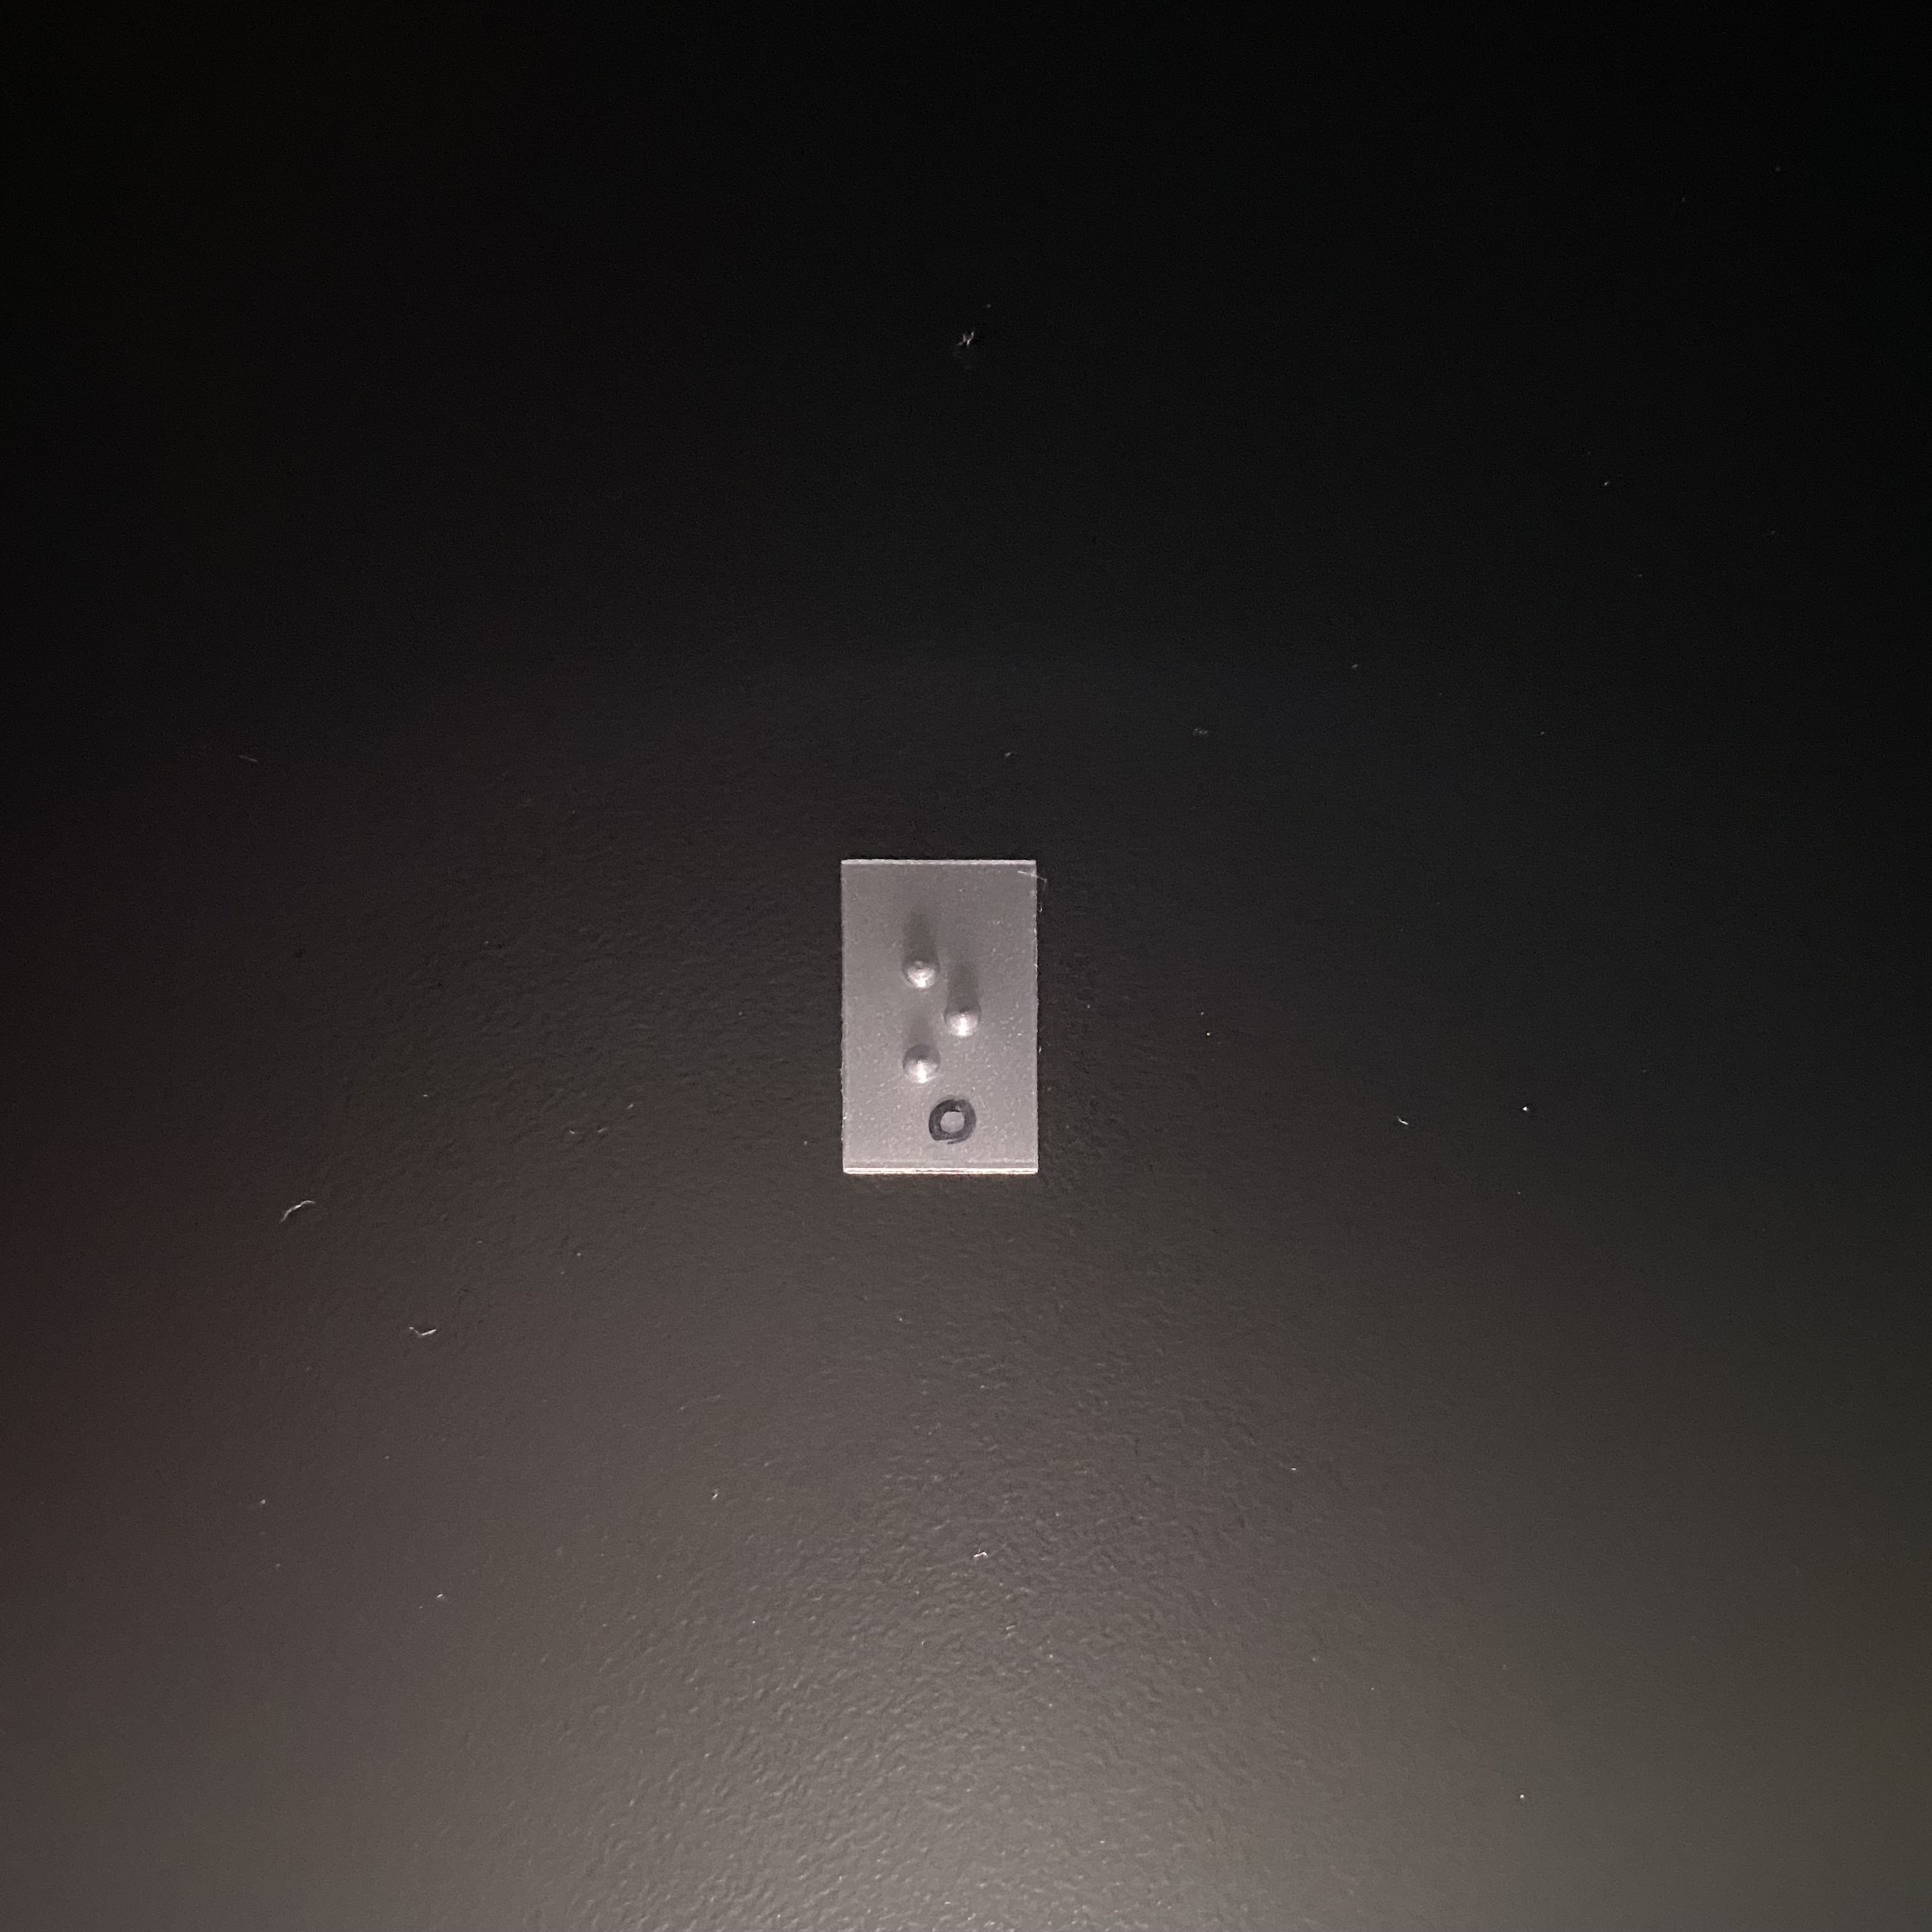o: (891, 921, 1009, 1101)
